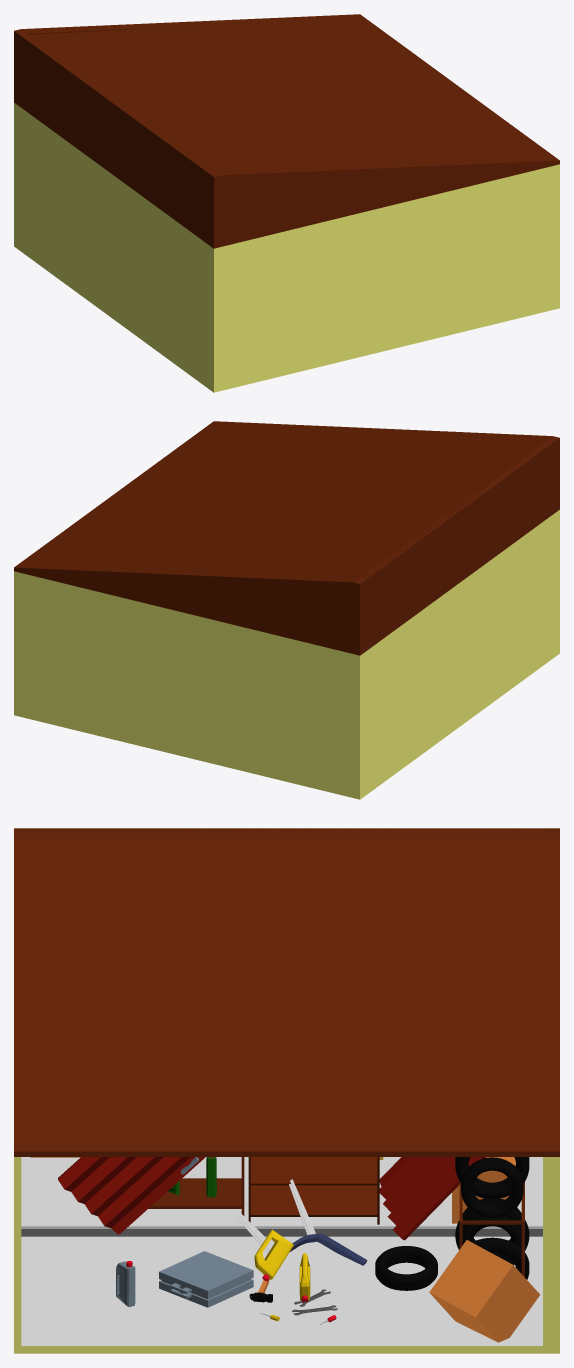
Rendered from Bengkel.fbx.
The picture shows the model from 3 angles, top to bottom: view 1: azimuth 30°, elevation 25°; view 2: azimuth 150°, elevation 25°; view 3: azimuth 270°, elevation 25°; orthographic projection. The views are drawn at different scales.
Visible parts, largest first — view 1: Cube.008; view 2: Cube.008; view 3: Cube.008, Cube.023, Cube.014, Plane.004, Plane.003, Cube.050, Cube.046, Torus.004, Torus.002, Plane.005, Torus.001, Cube.007 (+5 smaller).
Boxes of the visible parts, box(x1,y1,x2,y2) form: Cube.008: box(14, 14, 559, 392); Cube.008: box(14, 421, 559, 799); Cube.008: box(14, 828, 559, 1353); Cube.023: box(248, 1157, 379, 1224); Cube.014: box(429, 1240, 539, 1342); Plane.004: box(58, 1157, 205, 1234); Plane.003: box(379, 1157, 486, 1240); Cube.050: box(159, 1251, 253, 1307); Cube.046: box(148, 1157, 244, 1215); Torus.004: box(461, 1157, 523, 1217); Torus.002: box(375, 1246, 437, 1290); Plane.005: box(236, 1179, 367, 1265); Torus.001: box(455, 1157, 529, 1199); Cube.007: box(254, 1229, 293, 1281).
Bounding box in the file's own units: 1859 × 1082 × 1791.
